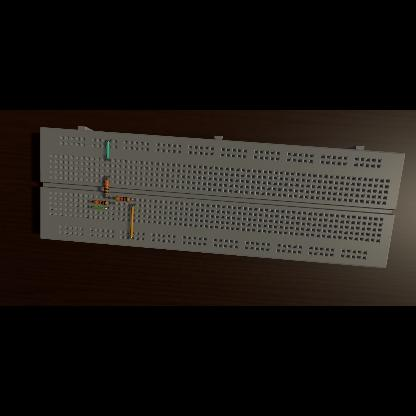breadboard: (40, 126, 404, 268)
resistor: (94, 200, 108, 206), (115, 197, 130, 202), (104, 180, 109, 194)
wire: (130, 205, 134, 239), (107, 141, 111, 161), (91, 206, 109, 210), (107, 176, 110, 180), (107, 196, 110, 198), (113, 198, 115, 200), (130, 200, 134, 200), (92, 202, 92, 202)
